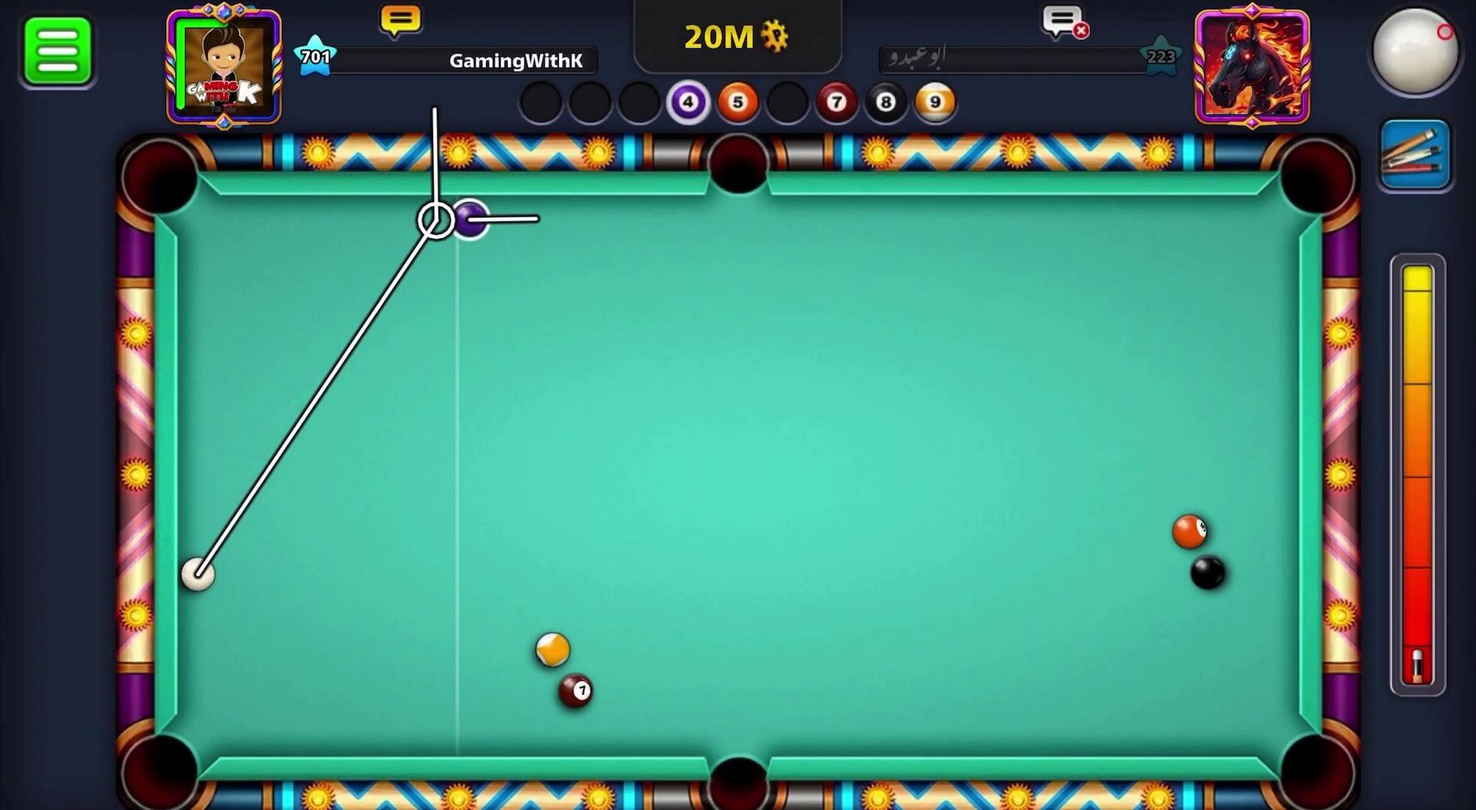Ball: (1171, 503, 1213, 555), (444, 197, 491, 239), (1188, 553, 1230, 593), (531, 630, 572, 670), (558, 672, 595, 710)
Force: (1386, 250, 1453, 698)
Guideline: (196, 101, 545, 582)
Hole: (105, 125, 220, 233), (1268, 131, 1366, 230), (1266, 713, 1364, 809), (111, 722, 208, 809), (688, 125, 785, 209), (690, 741, 785, 809)
Play_Area: (175, 194, 1296, 753)
Spin: (1346, 0, 1475, 112)
White: (175, 553, 222, 595)
